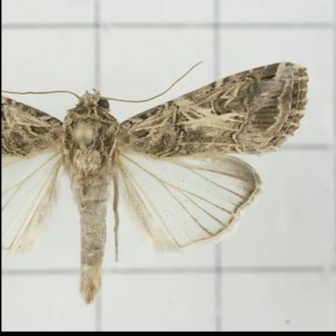Spodoptera litura: (2, 60, 307, 308)
